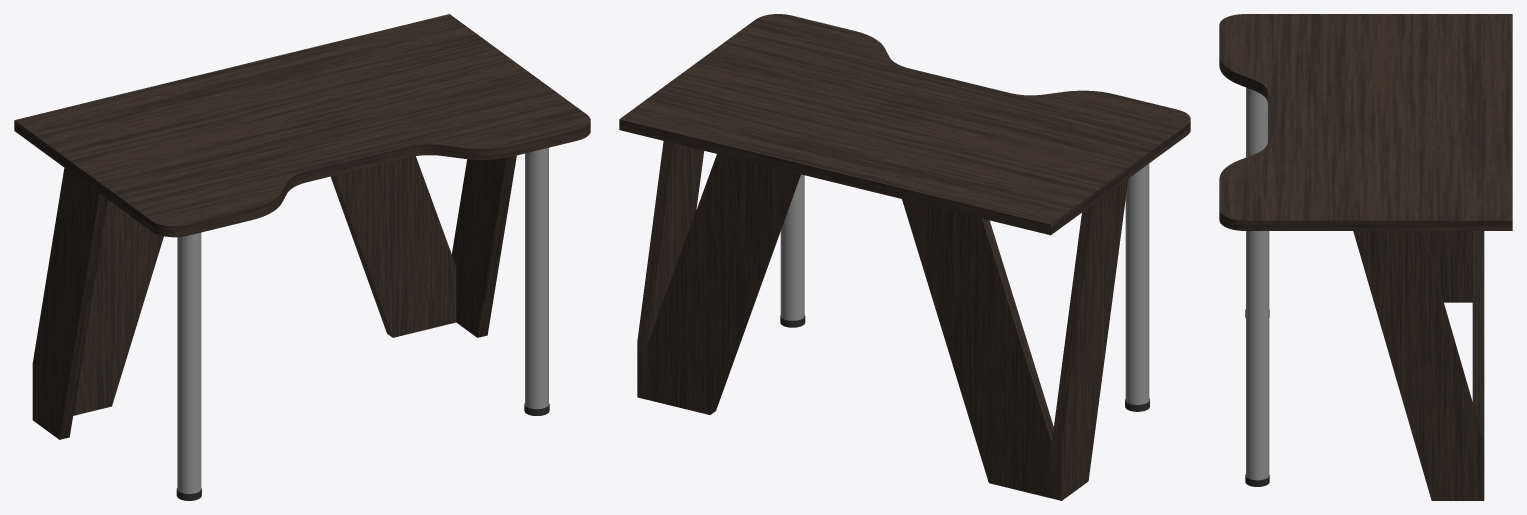
File: desk.fbx
The picture shows the model from 3 angles, left to right: view 1: azimuth 30°, elevation 25°; view 2: azimuth 150°, elevation 25°; view 3: azimuth 270°, elevation 25°; orthographic projection. The views are drawn at different scales.
Parts seen in each view (by area): view 1: table_top, walls, tube; view 2: table_top, walls, tube; view 3: table_top, walls, tube.
Boxes of the visible parts, bbox=[...] form: table_top: bbox=[14, 14, 590, 237]; walls: bbox=[32, 155, 516, 439]; tube: bbox=[176, 147, 549, 500]; table_top: bbox=[619, 14, 1190, 235]; walls: bbox=[637, 141, 1128, 500]; tube: bbox=[780, 163, 1149, 411]; table_top: bbox=[1219, 14, 1512, 230]; walls: bbox=[1353, 231, 1484, 500]; tube: bbox=[1245, 87, 1269, 486].
Bounding box in the file's own units: 1500 × 955 × 900.
Materials: 4 (2 with a texture image).
